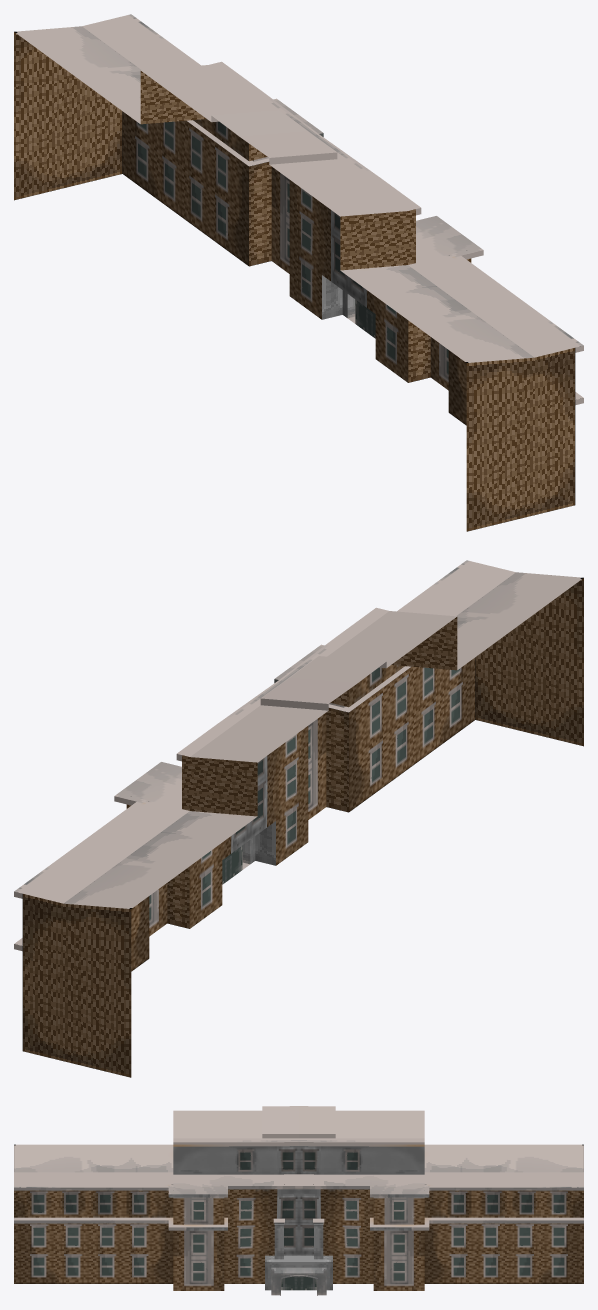
File: Murry_Hall.glb
The picture shows the model from 3 angles, top to bottom: view 1: azimuth 30°, elevation 25°; view 2: azimuth 150°, elevation 25°; view 3: azimuth 270°, elevation 25°; orthographic projection. The views are drawn at different scales.
Visible parts, largest first — view 1: Plane.004; view 2: Plane.004; view 3: Plane.004.
Part boxes in pixels (box(x1,y1,x2,y2)): Plane.004: box(14, 14, 583, 531); Plane.004: box(14, 560, 583, 1077); Plane.004: box(14, 1106, 583, 1295).
Bounding box in the file's own units: 107 × 158 × 565.
Materials: 1 (1 with a texture image).
